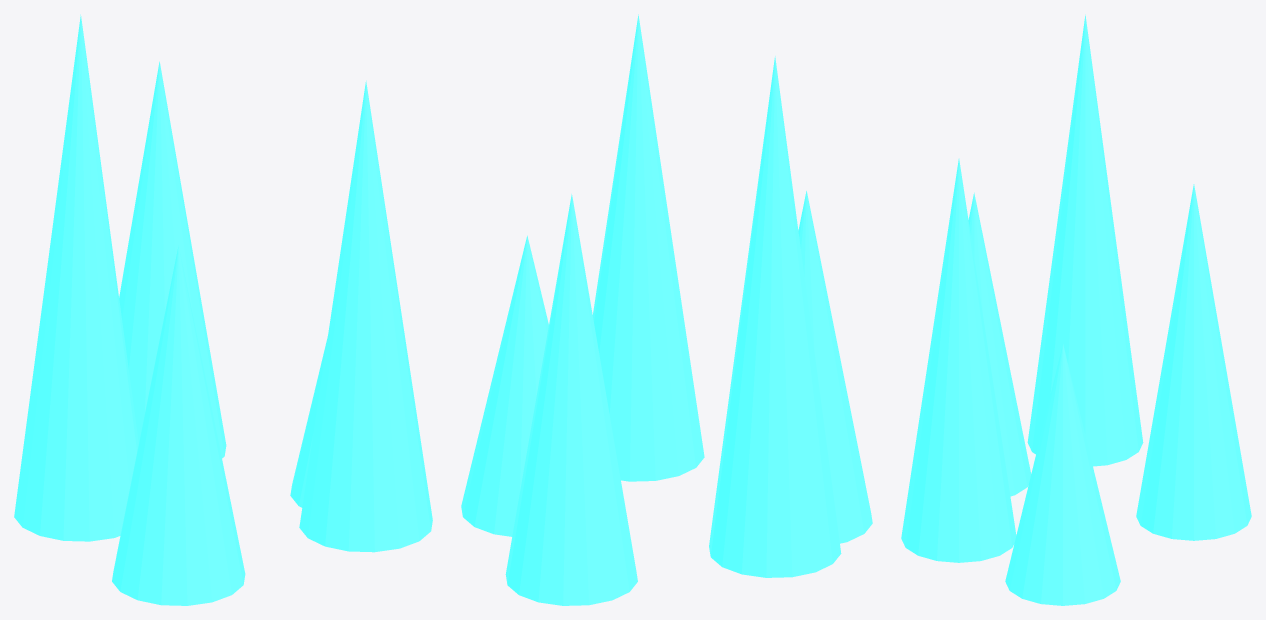
The model's file is journey_glass.glb.
3 views of the same model, side by side, from view 1: azimuth 30°, elevation 25°; view 2: azimuth 150°, elevation 25°; view 3: azimuth 270°, elevation 25° (orthographic). The views are drawn at different scales.
Parts seen in each view (by area): view 1: Scenery_Journey Cyan lamps.009; view 2: Scenery_Journey Cyan lamps.009; view 3: Scenery_Journey Cyan lamps.009.
Part boxes in pixels (x1,y1,x2,y2): Scenery_Journey Cyan lamps.009: (14, 14, 432, 605); Scenery_Journey Cyan lamps.009: (461, 14, 872, 605); Scenery_Journey Cyan lamps.009: (901, 14, 1251, 605).
Bounding box in the file's own units: 1.43 × 1.92 × 1.33.
